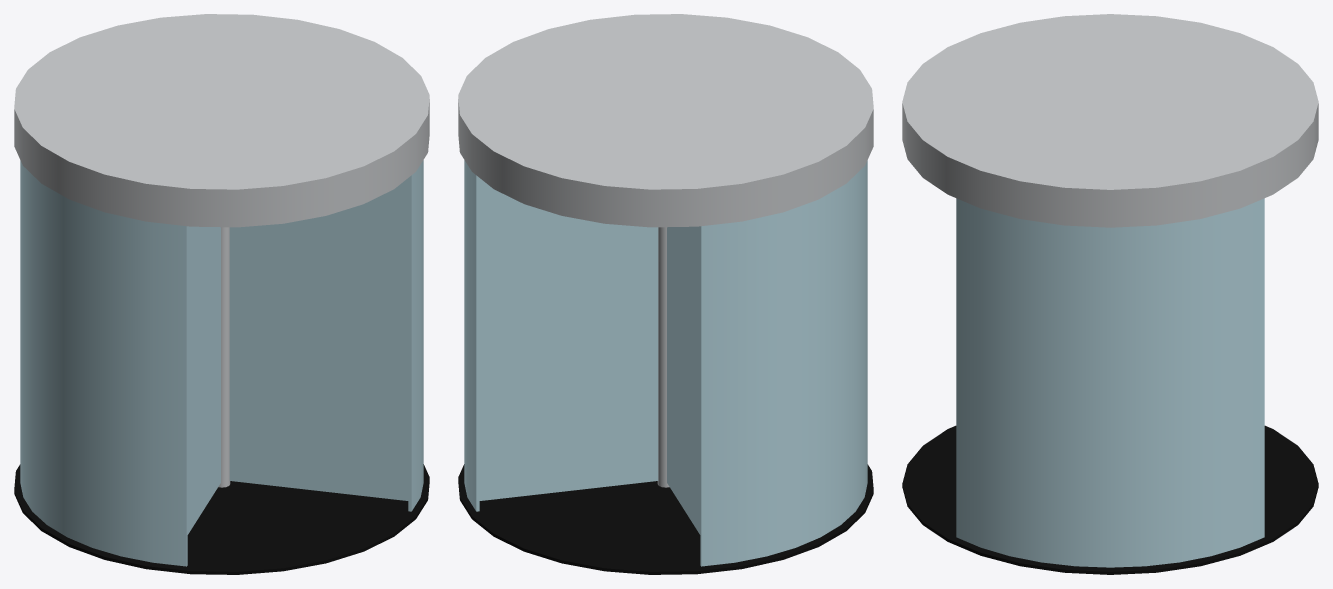
Rendered from opening.door.revolving.glb.
3 renders of one model, left to right at view 1: azimuth 30°, elevation 25°; view 2: azimuth 150°, elevation 25°; view 3: azimuth 270°, elevation 25°, orthographic.
Parts seen in each view (by area): view 1: frame__aluminium, frame__glass, leaf__glass, frame__rubber, leaf__aluminium; view 2: frame__aluminium, frame__glass, leaf__glass, frame__rubber, leaf__aluminium; view 3: frame__glass, frame__aluminium, frame__rubber.
Boxes of the visible parts, x1,y1,x2,y2 form: frame__aluminium: (14, 14, 429, 227); frame__glass: (20, 160, 423, 566); leaf__glass: (187, 178, 408, 534); frame__rubber: (14, 464, 429, 574); leaf__aluminium: (218, 227, 230, 487); frame__aluminium: (458, 14, 873, 227); frame__glass: (464, 160, 867, 566); leaf__glass: (479, 178, 700, 534); frame__rubber: (458, 464, 873, 574); leaf__aluminium: (657, 227, 669, 487); frame__glass: (956, 198, 1264, 567); frame__aluminium: (902, 14, 1318, 227); frame__rubber: (902, 425, 1318, 574).
Size of the model in its own units: 2.5 by 2.55 by 2.5.
